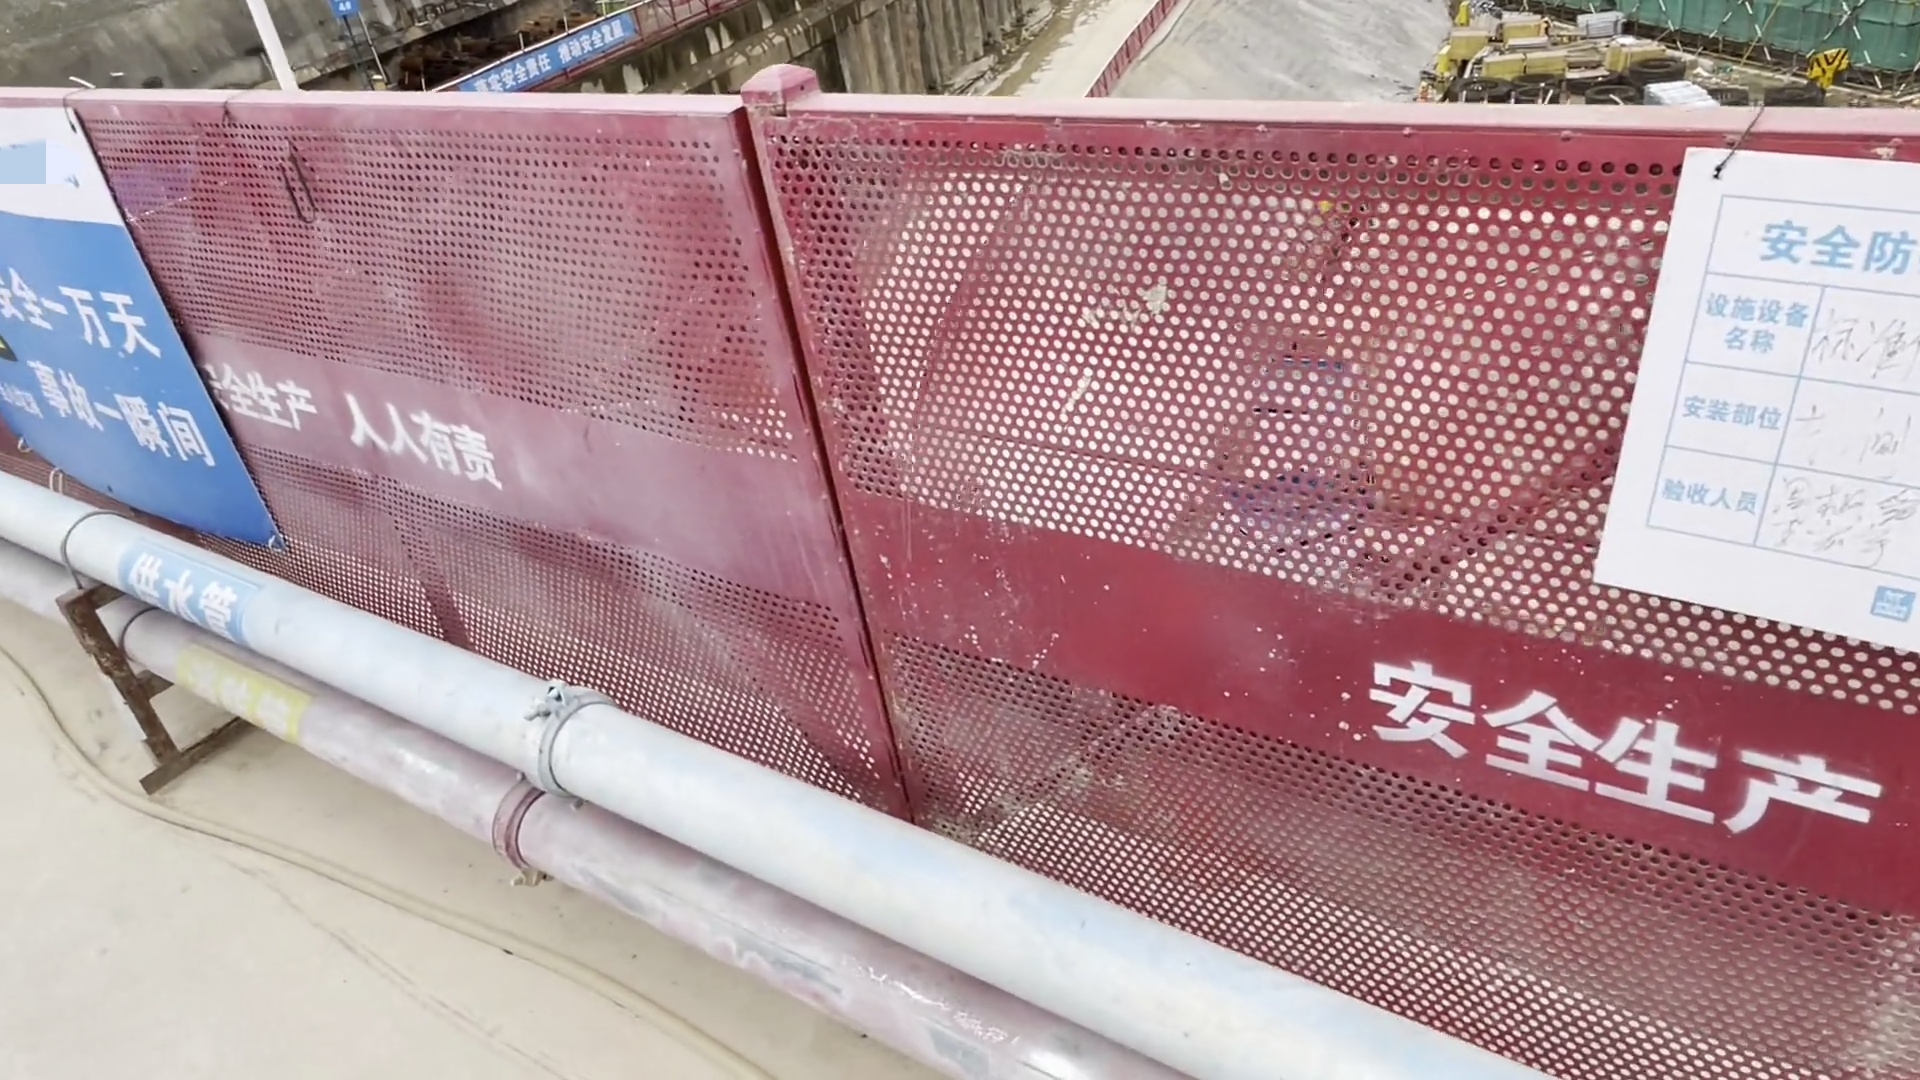fence: (674, 18, 1577, 1022)
slogan: (1611, 137, 1920, 671), (1, 107, 282, 560), (440, 15, 634, 107)
